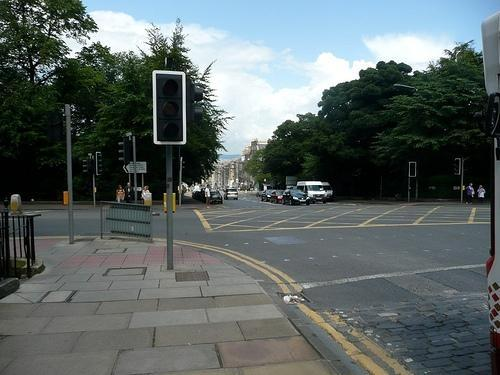car: (296, 182, 327, 204), (281, 188, 310, 206), (190, 186, 207, 204), (210, 190, 224, 204), (270, 190, 285, 203), (224, 188, 238, 200), (260, 189, 272, 202), (254, 190, 264, 198)
